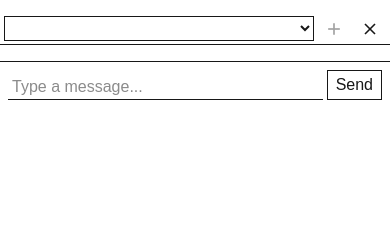
Test: sending a message creates a conversation and shows the exchange
Expected: the button "Send" is shown, [327, 70, 382, 100]
Type "Hello Rabbi" into the text box with placeholder "Type a message...".
click(165, 88); type("Hello Rabbi")  # box [8, 75, 323, 100]
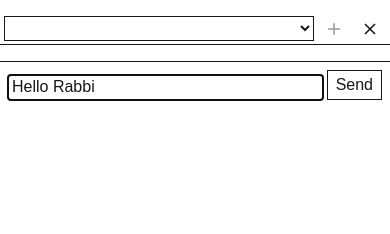
Click the button "Send".
click(354, 85)  # box [327, 70, 382, 100]
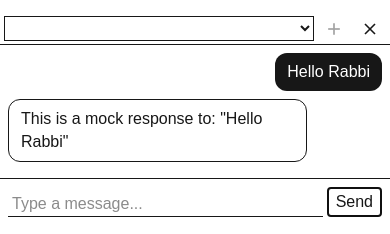
Result: the text "Hello Rabbi" is shown at [275, 53, 382, 91]
Result: the text "This is a mock response to: \"Hello Rabbi\"" is shown at [8, 99, 307, 162]
